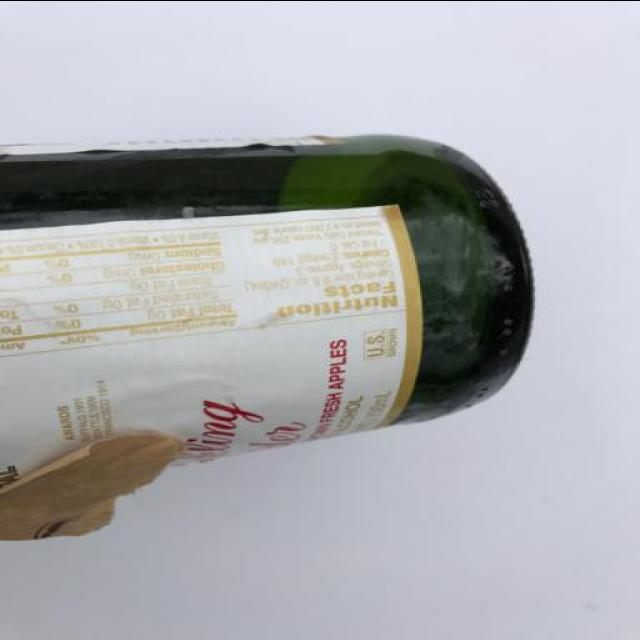glass: (0, 127, 542, 527)
